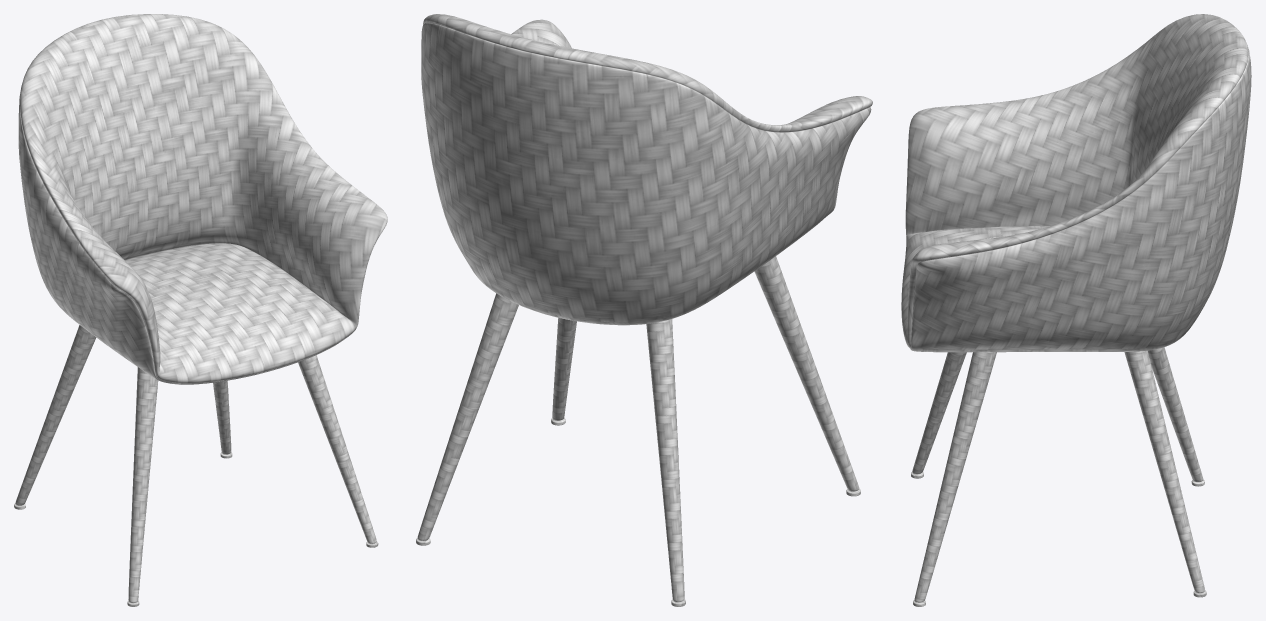
The model's file is chair_tokyo.glb.
3 views of the same model, side by side, from view 1: azimuth 30°, elevation 25°; view 2: azimuth 150°, elevation 25°; view 3: azimuth 270°, elevation 25° (orthographic). The views are drawn at different scales.
Visible parts, largest first — view 1: Chair, Standing; view 2: Chair, Standing; view 3: Chair, Standing.
Boxes of the visible parts, bbox=[...] form: Chair: bbox=[18, 14, 387, 384]; Standing: bbox=[14, 325, 378, 606]; Chair: bbox=[421, 14, 872, 325]; Standing: bbox=[416, 256, 860, 606]; Chair: bbox=[901, 14, 1251, 352]; Standing: bbox=[911, 347, 1206, 606].
Size of the model in its own units: 0.605 by 0.9401 by 0.608.
Materials: 1 (1 with a texture image).
